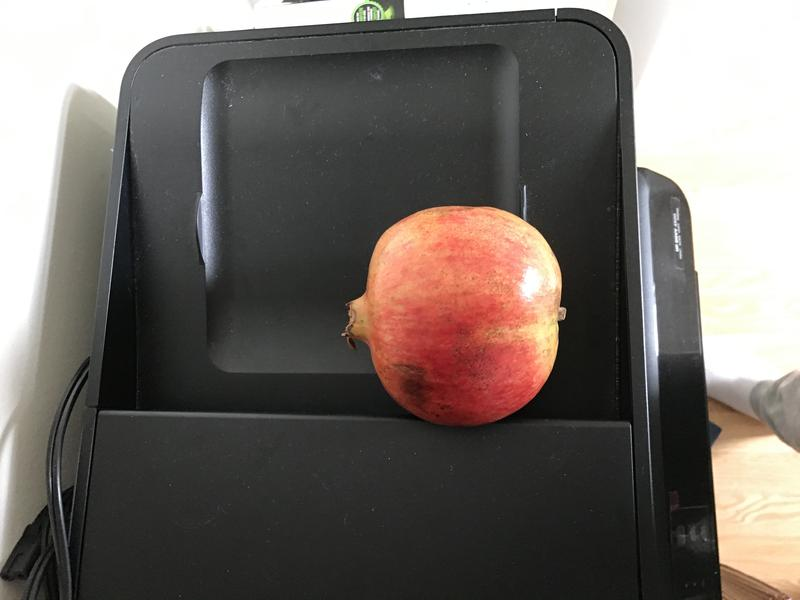pomegranate: (326, 198, 580, 433)
